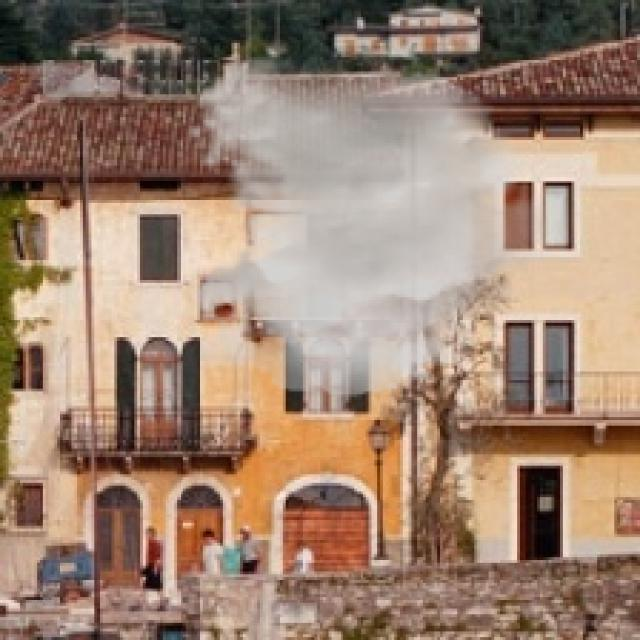Smoke: (179, 54, 572, 397)
